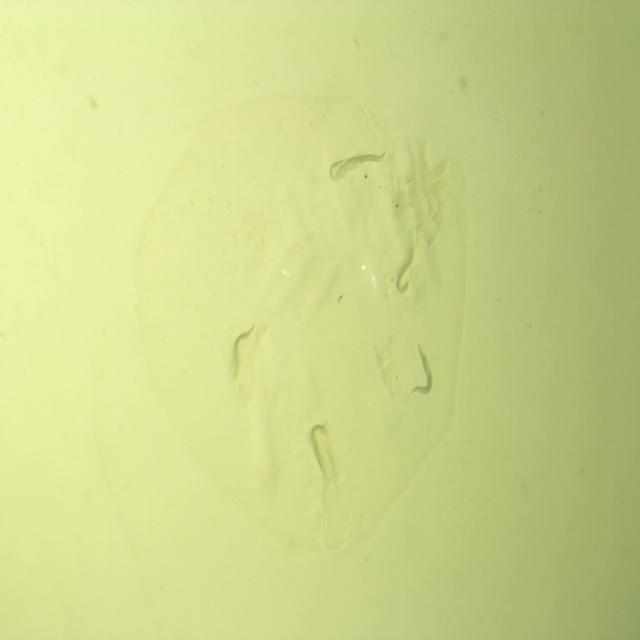worm: (404, 340, 438, 399), (306, 420, 337, 481), (334, 145, 389, 179), (230, 318, 258, 382), (394, 243, 418, 298), (326, 152, 361, 182)
